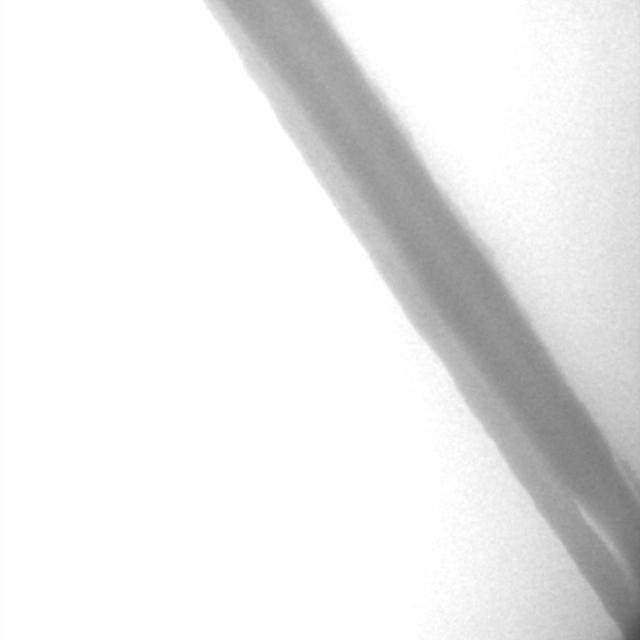unfused: (569, 458, 636, 572)
